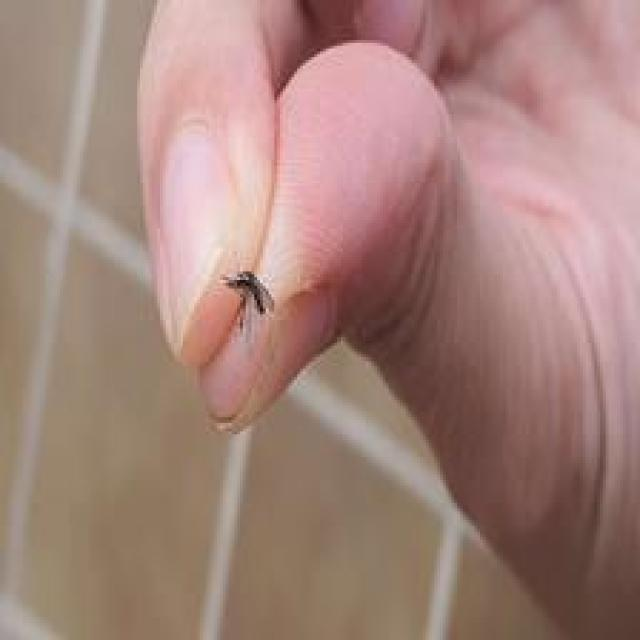Aedes albopictus: (218, 269, 276, 334)
